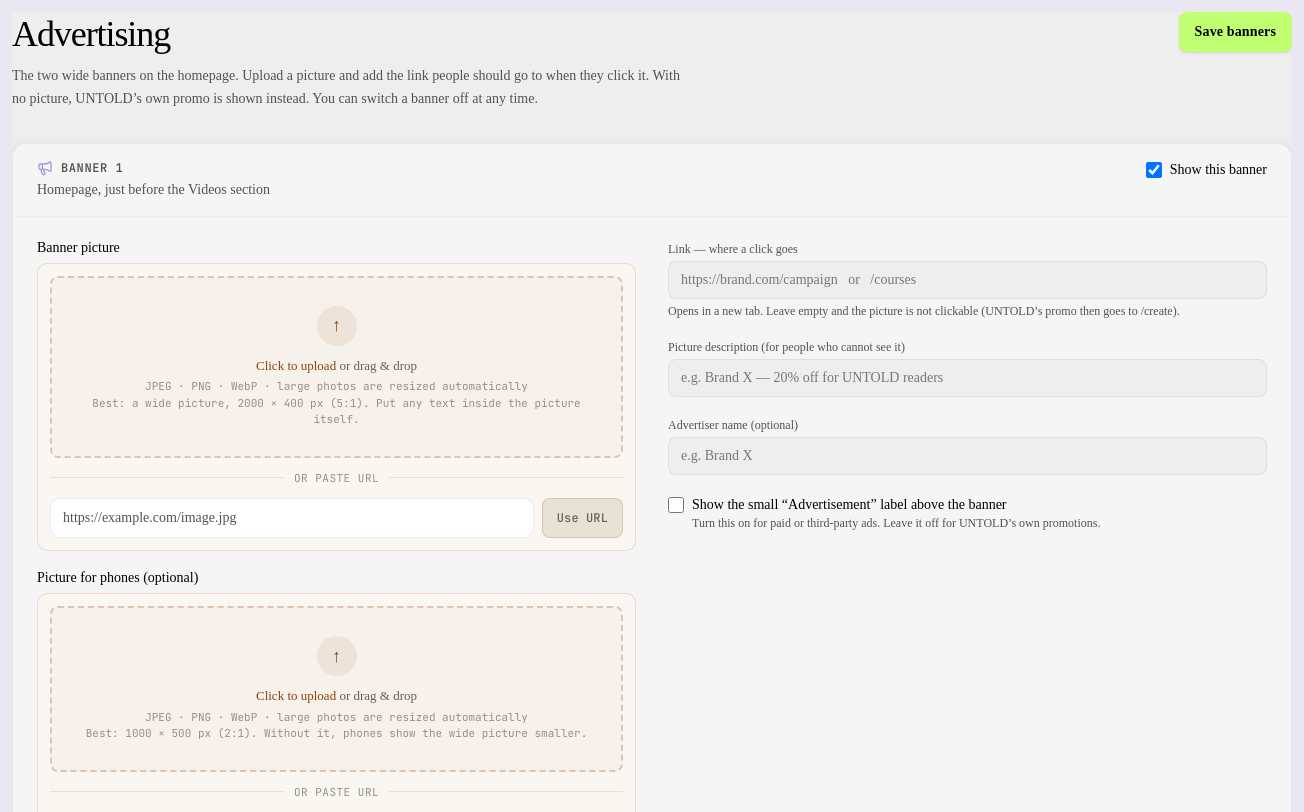
it: BannersForm (Admin → Advertising) › shows the error when saving fails
The width and height of the screenshot is (1304, 812).
Click the button "Save banners" at (1235, 32), box x1=1179 y1=12 x2=1292 y2=52
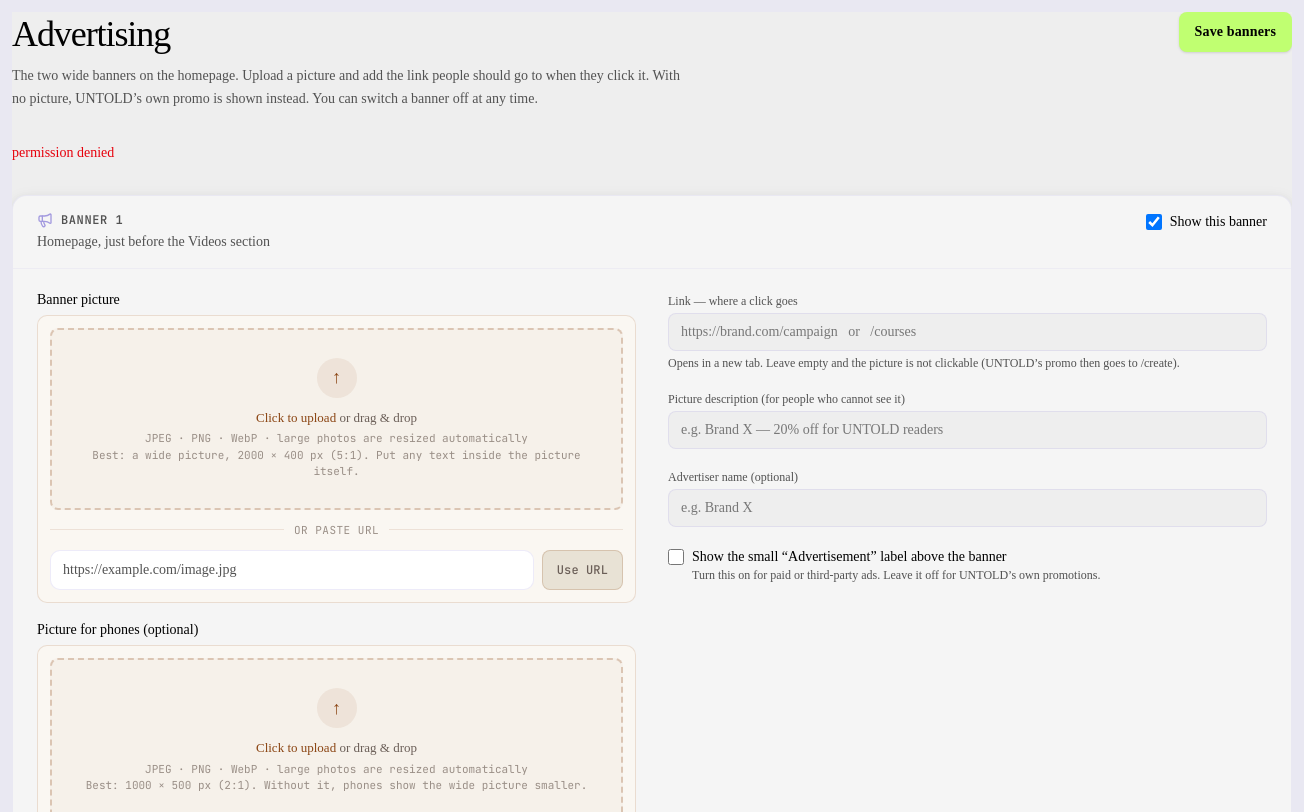
expect the text "permission denied" is shown: met, box x1=12 y1=144 x2=114 y2=160
